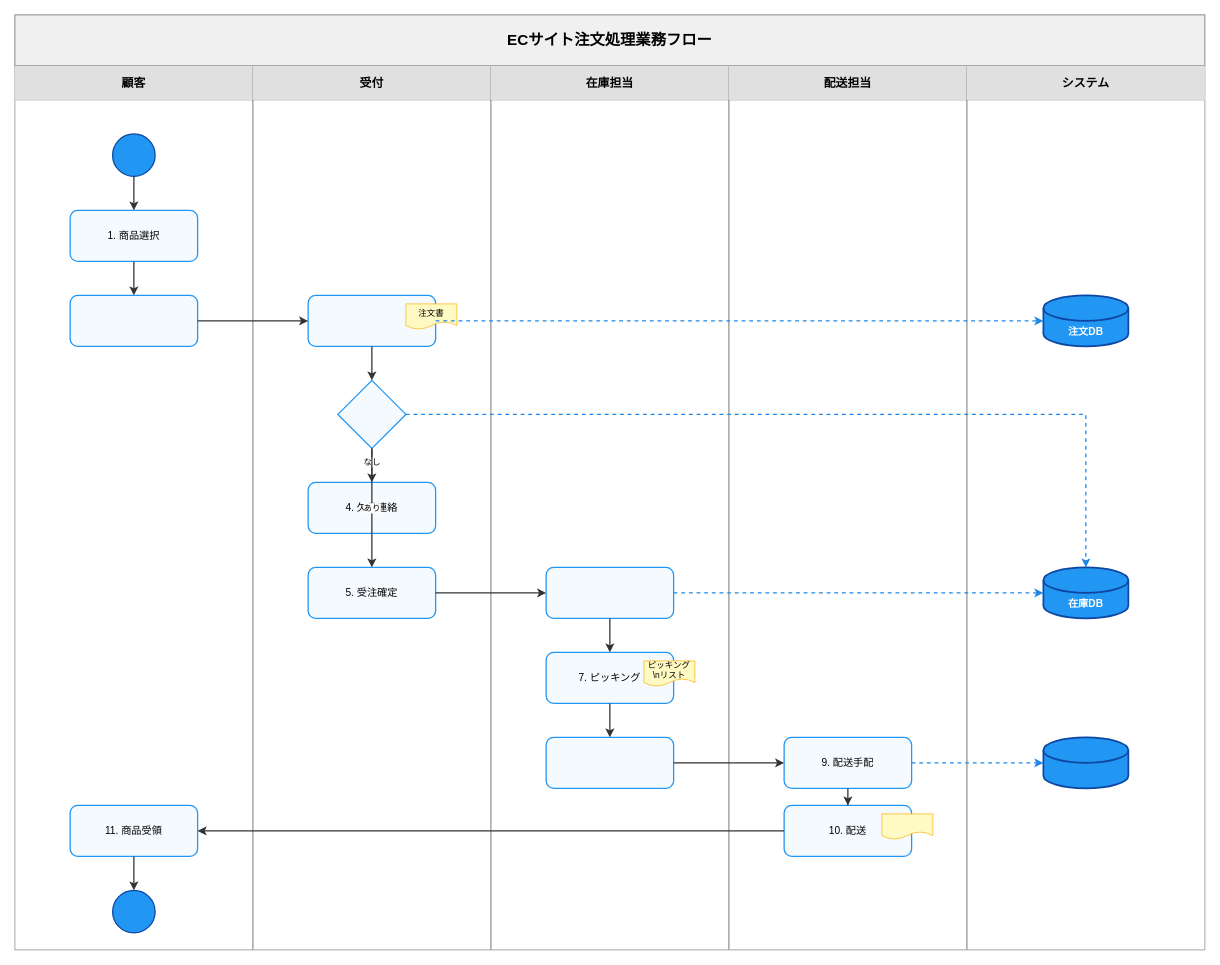
This 1220x965 diagram has some shape labels left out. Here are the shapes that lost their labels. From the top down, the box of each, then its label:
(112, 133, 155, 177): 開始
(69, 294, 198, 347): 2. 注文確定
(307, 294, 436, 347): 3. 注文受付
(337, 379, 406, 449): 在庫
(545, 566, 674, 619): 6. 在庫引当
(545, 736, 674, 789): 8. 梱包
(1042, 736, 1129, 789): 配送DB
(881, 813, 933, 839): 配送伝票
(112, 889, 155, 933): 終了
